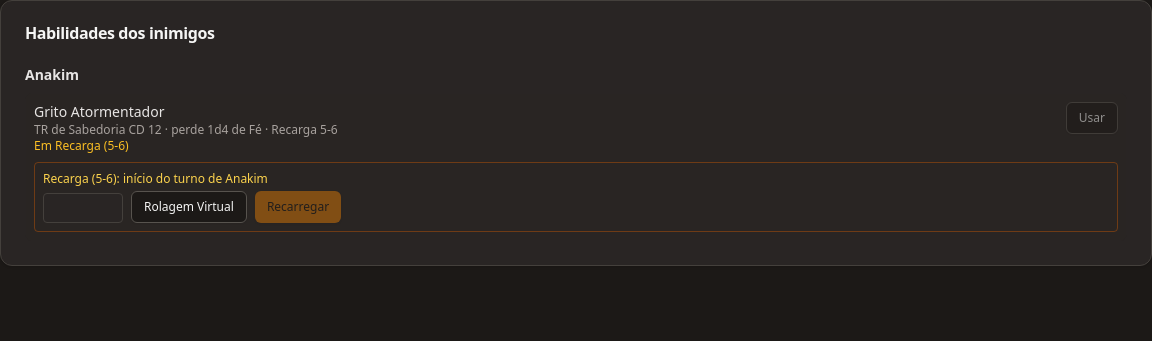
Test case: EnemyAbilityPanel: uso por combate e Recarga › o d6 com 5 ou 6 recarrega e avisa que a Habilidade voltou
In the number field named "d6 da Recarga de Grito Atormentador (Anakim)": (83, 208) [43,193,123,223], type "5"
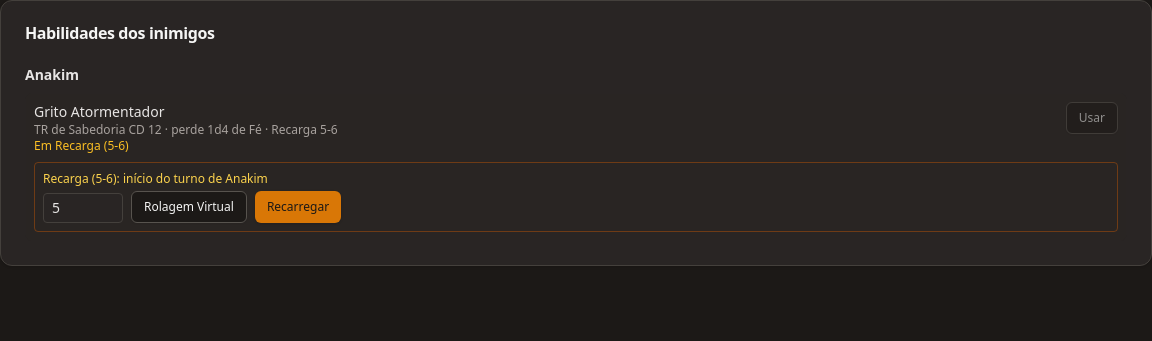
Click the button with aria-label "Recarregar Grito Atormentador (Anakim)": (298, 207) [255,191,341,223]
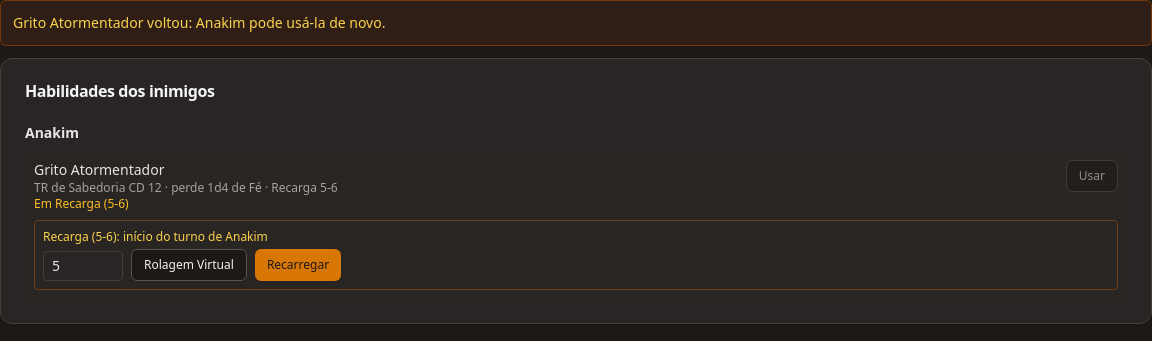
Expected: the message shows "Grito Atormentador voltou", [13,13,386,32]
